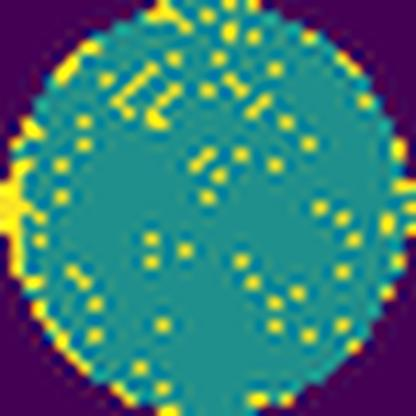Edge-Loc: (0, 155, 49, 289), (129, 0, 191, 36), (8, 112, 45, 152)
